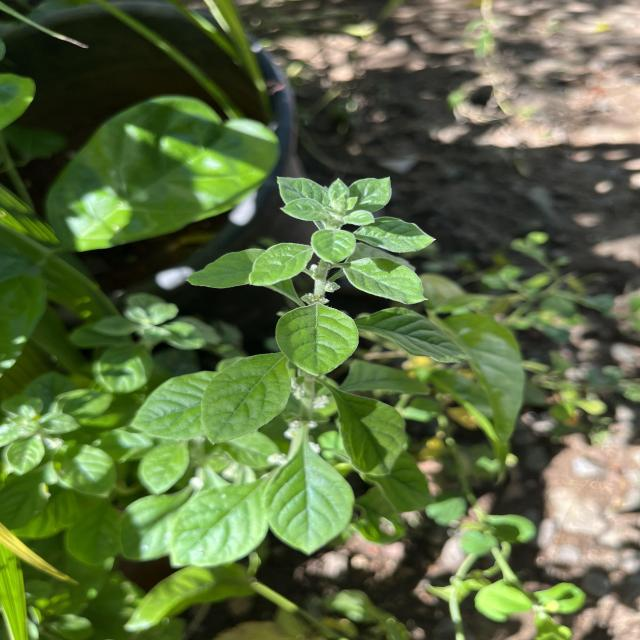Aerva lanata: (199, 352, 294, 448), (274, 302, 360, 378), (337, 256, 430, 306), (246, 241, 317, 288)
